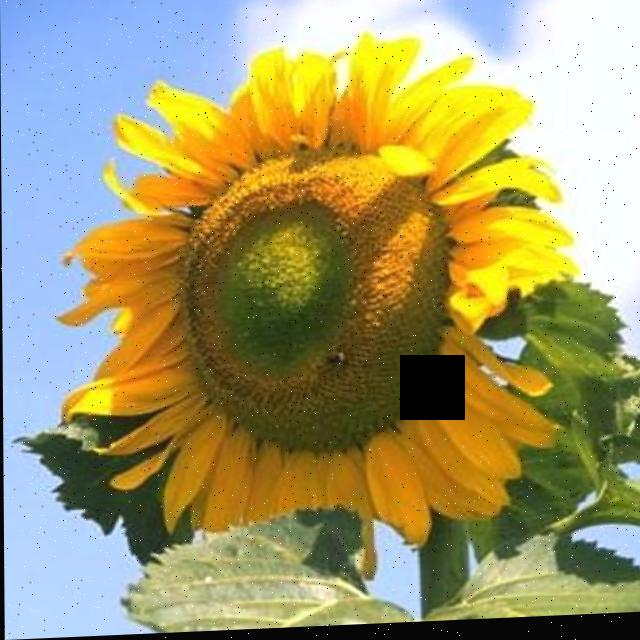azalea: (61, 0, 613, 638)
